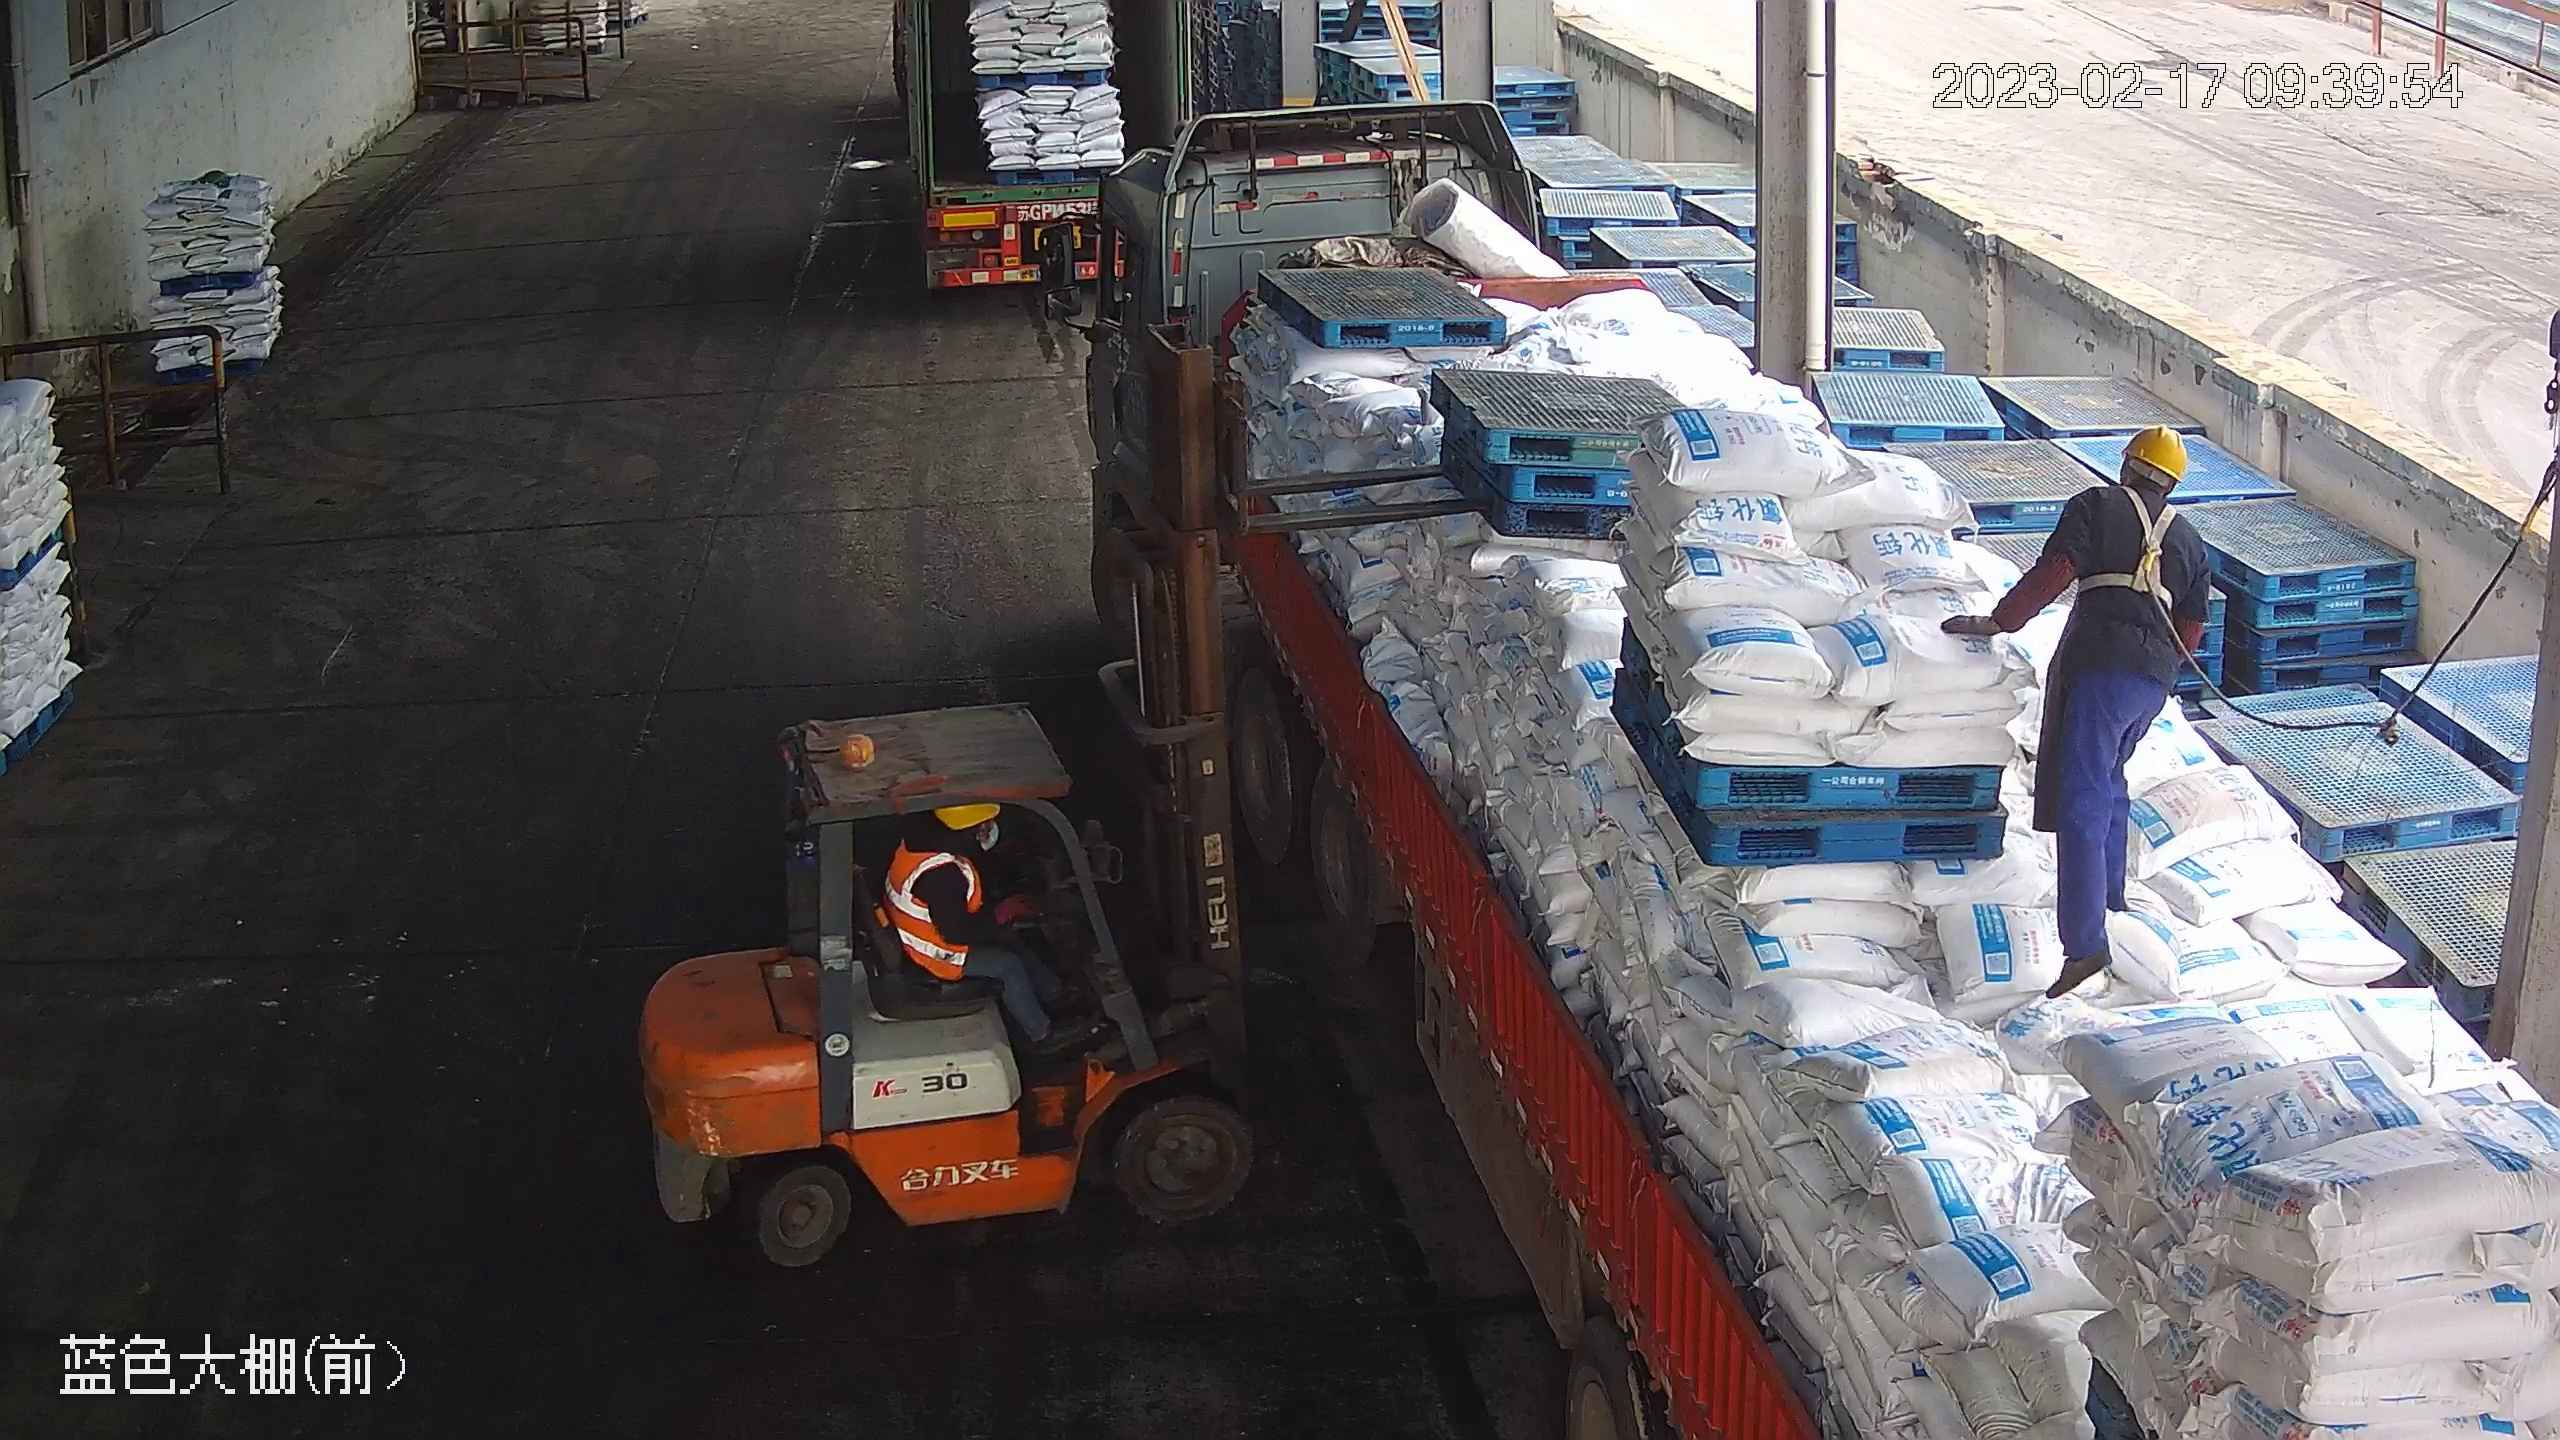belt: (2075, 483, 2188, 599)
head: (2058, 420, 2203, 568), (887, 799, 1010, 906)
helmet: (2125, 419, 2188, 483)
people: (1935, 413, 2211, 999), (883, 793, 1086, 1034)
truck: (1038, 96, 2560, 1436), (892, 1, 1189, 291)
